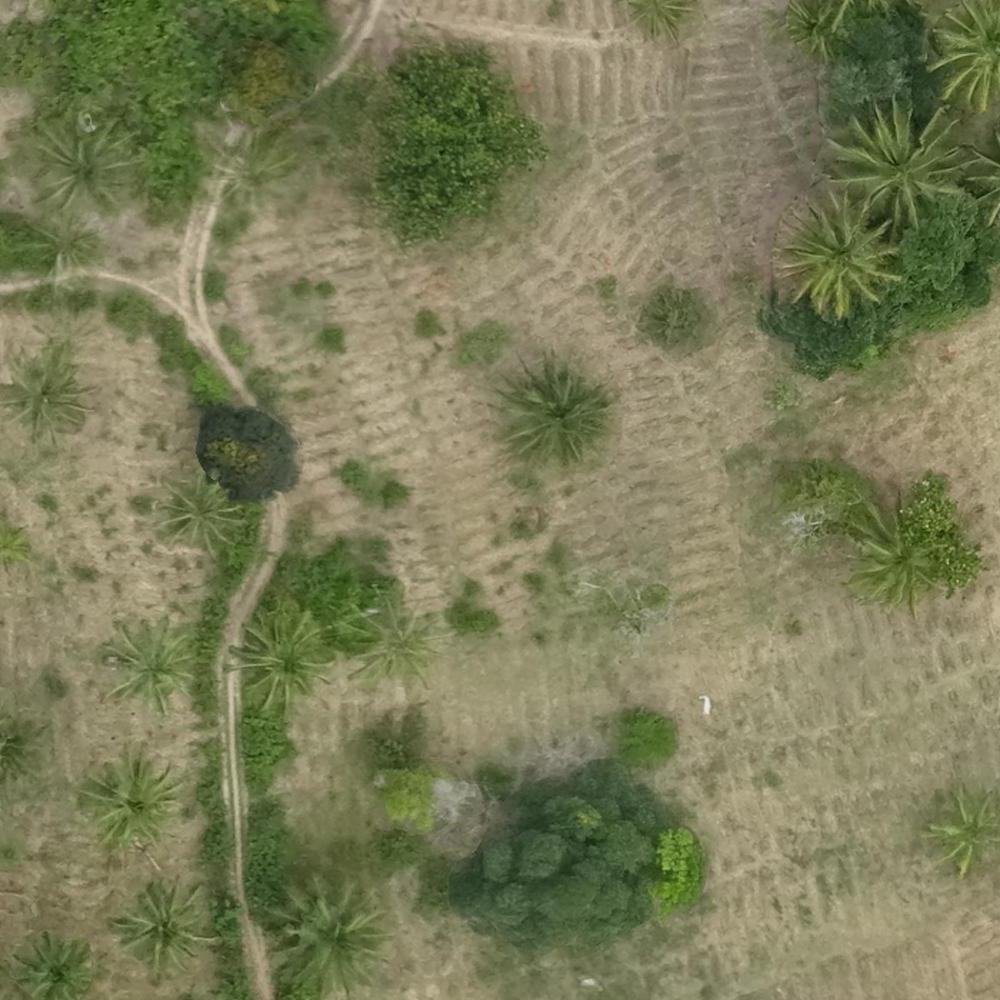Palm: (836, 100, 958, 221), (777, 200, 898, 316), (269, 878, 386, 994), (25, 112, 138, 219), (496, 362, 608, 461), (846, 496, 944, 600), (78, 754, 172, 851), (115, 882, 212, 975), (233, 614, 330, 706), (2, 348, 88, 438), (346, 597, 432, 682), (108, 623, 190, 709), (159, 476, 243, 547), (930, 789, 1000, 870), (10, 933, 93, 1000)
